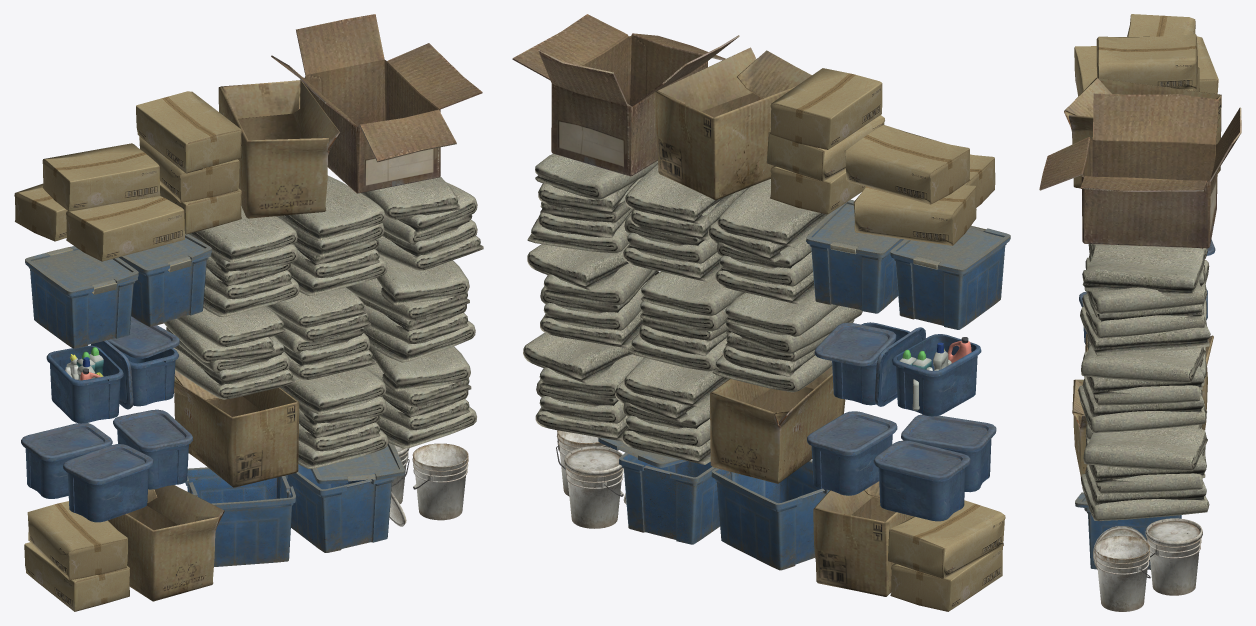
The model's file is sm39_155_ironshelfset07a.fbx.
3 renders of one model, left to right at view 1: azimuth 30°, elevation 25°; view 2: azimuth 150°, elevation 25°; view 3: azimuth 270°, elevation 25°, orthographic. The views are drawn at different scales.
Parts seen in each view (by area): view 1: LOD_1_Group_0_Sub_7__sm36_029_BathTowel01A_A_Mat, LOD_1_Group_0_Sub_9__sm36_004_Cardboard03A_A_Mat, LOD_1_Group_0_Sub_1__sm36_002_Cardboard01A_A_Mat, LOD_1_Group_0_Sub_6__sm30_074_PlasticBox01A_A_Mat, LOD_1_Group_0_Sub_2__sm36_005_Cardboard04A_A_Mat, LOD_1_Group_1_Sub_3__sm30_073_PlasticBox01A_A_Mat1, LOD_1_Group_0_Sub_5__sm30_073_PlasticBox01A_A_Mat1, LOD_1_Group_0_Sub_4__sm30_073_PlasticBox01A_A_Mat, LOD_1_Group_1_Sub_1__sm30_072_PlasticBucket01A_A_Mat, LOD_1_Group_1_Sub_2__sm30_073_PlasticBox01A_A_Mat, LOD_1_Group_0_Sub_8__sm36_018_WashingMaterial01A_A_Mat; view 2: LOD_1_Group_0_Sub_7__sm36_029_BathTowel01A_A_Mat, LOD_1_Group_0_Sub_9__sm36_004_Cardboard03A_A_Mat, LOD_1_Group_0_Sub_1__sm36_002_Cardboard01A_A_Mat, LOD_1_Group_0_Sub_6__sm30_074_PlasticBox01A_A_Mat, LOD_1_Group_0_Sub_2__sm36_005_Cardboard04A_A_Mat, LOD_1_Group_1_Sub_3__sm30_073_PlasticBox01A_A_Mat1, LOD_1_Group_0_Sub_5__sm30_073_PlasticBox01A_A_Mat1, LOD_1_Group_0_Sub_4__sm30_073_PlasticBox01A_A_Mat, LOD_1_Group_1_Sub_2__sm30_073_PlasticBox01A_A_Mat, LOD_1_Group_1_Sub_1__sm30_072_PlasticBucket01A_A_Mat, LOD_1_Group_0_Sub_3__sm30_072_PlasticBucket01A_A_Mat, LOD_1_Group_0_Sub_8__sm36_018_WashingMaterial01A_A_Mat; view 3: LOD_1_Group_0_Sub_7__sm36_029_BathTowel01A_A_Mat, LOD_1_Group_0_Sub_2__sm36_005_Cardboard04A_A_Mat, LOD_1_Group_0_Sub_9__sm36_004_Cardboard03A_A_Mat, LOD_1_Group_1_Sub_1__sm30_072_PlasticBucket01A_A_Mat, LOD_1_Group_0_Sub_1__sm36_002_Cardboard01A_A_Mat, LOD_1_Group_0_Sub_3__sm30_072_PlasticBucket01A_A_Mat, LOD_1_Group_0_Sub_6__sm30_074_PlasticBox01A_A_Mat.
Boxes of the visible parts, <box> form: LOD_1_Group_0_Sub_7__sm36_029_BathTowel01A_A_Mat: <box>164,175,483,468</box>; LOD_1_Group_0_Sub_9__sm36_004_Cardboard03A_A_Mat: <box>14,91,241,611</box>; LOD_1_Group_0_Sub_1__sm36_002_Cardboard01A_A_Mat: <box>108,80,340,601</box>; LOD_1_Group_0_Sub_6__sm30_074_PlasticBox01A_A_Mat: <box>25,234,404,566</box>; LOD_1_Group_0_Sub_2__sm36_005_Cardboard04A_A_Mat: <box>271,14,482,193</box>; LOD_1_Group_1_Sub_3__sm30_073_PlasticBox01A_A_Mat1: <box>21,409,192,483</box>; LOD_1_Group_0_Sub_5__sm30_073_PlasticBox01A_A_Mat1: <box>23,427,190,522</box>; LOD_1_Group_0_Sub_4__sm30_073_PlasticBox01A_A_Mat: <box>46,345,178,423</box>; LOD_1_Group_1_Sub_1__sm30_072_PlasticBucket01A_A_Mat: <box>391,443,468,520</box>; LOD_1_Group_1_Sub_2__sm30_073_PlasticBox01A_A_Mat: <box>91,316,179,409</box>; LOD_1_Group_0_Sub_8__sm36_018_WashingMaterial01A_A_Mat: <box>65,347,103,380</box>; LOD_1_Group_0_Sub_7__sm36_029_BathTowel01A_A_Mat: <box>523,153,862,464</box>; LOD_1_Group_0_Sub_9__sm36_004_Cardboard03A_A_Mat: <box>766,68,1005,611</box>; LOD_1_Group_0_Sub_1__sm36_002_Cardboard01A_A_Mat: <box>654,47,913,596</box>; LOD_1_Group_0_Sub_6__sm30_074_PlasticBox01A_A_Mat: <box>598,199,1010,570</box>; LOD_1_Group_0_Sub_2__sm36_005_Cardboard04A_A_Mat: <box>512,14,739,176</box>; LOD_1_Group_1_Sub_3__sm30_073_PlasticBox01A_A_Mat1: <box>807,411,996,480</box>; LOD_1_Group_0_Sub_5__sm30_073_PlasticBox01A_A_Mat1: <box>809,431,991,521</box>; LOD_1_Group_0_Sub_4__sm30_073_PlasticBox01A_A_Mat: <box>832,322,981,416</box>; LOD_1_Group_1_Sub_2__sm30_073_PlasticBox01A_A_Mat: <box>814,322,925,406</box>; LOD_1_Group_1_Sub_1__sm30_072_PlasticBucket01A_A_Mat: <box>557,430,623,528</box>; LOD_1_Group_0_Sub_3__sm30_072_PlasticBucket01A_A_Mat: <box>564,446,626,504</box>; LOD_1_Group_0_Sub_8__sm36_018_WashingMaterial01A_A_Mat: <box>899,337,971,410</box>; LOD_1_Group_0_Sub_7__sm36_029_BathTowel01A_A_Mat: <box>1078,244,1210,520</box>; LOD_1_Group_0_Sub_2__sm36_005_Cardboard04A_A_Mat: <box>1039,93,1241,248</box>; LOD_1_Group_0_Sub_9__sm36_004_Cardboard03A_A_Mat: <box>1074,14,1218,96</box>; LOD_1_Group_1_Sub_1__sm30_072_PlasticBucket01A_A_Mat: <box>1094,536,1201,611</box>; LOD_1_Group_0_Sub_1__sm36_002_Cardboard01A_A_Mat: <box>1064,78,1221,476</box>; LOD_1_Group_0_Sub_3__sm30_072_PlasticBucket01A_A_Mat: <box>1093,518,1202,569</box>; LOD_1_Group_0_Sub_6__sm30_074_PlasticBox01A_A_Mat: <box>1075,492,1181,569</box>.
Size of the model in its own units: 2.53 by 2.67 by 1.07.
